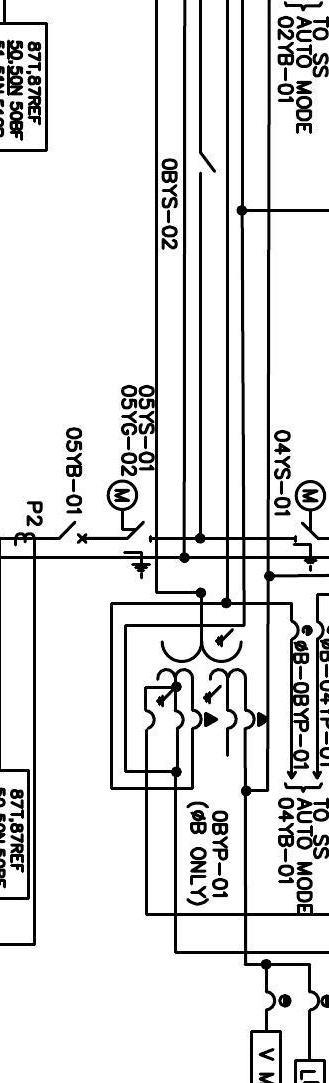115_3ways_ds_w_motor: (105, 479, 152, 580), (292, 479, 327, 573)
115_breaker: (57, 529, 87, 553)
115_ds: (198, 150, 217, 176)
115_vt_1p: (155, 627, 269, 731)
